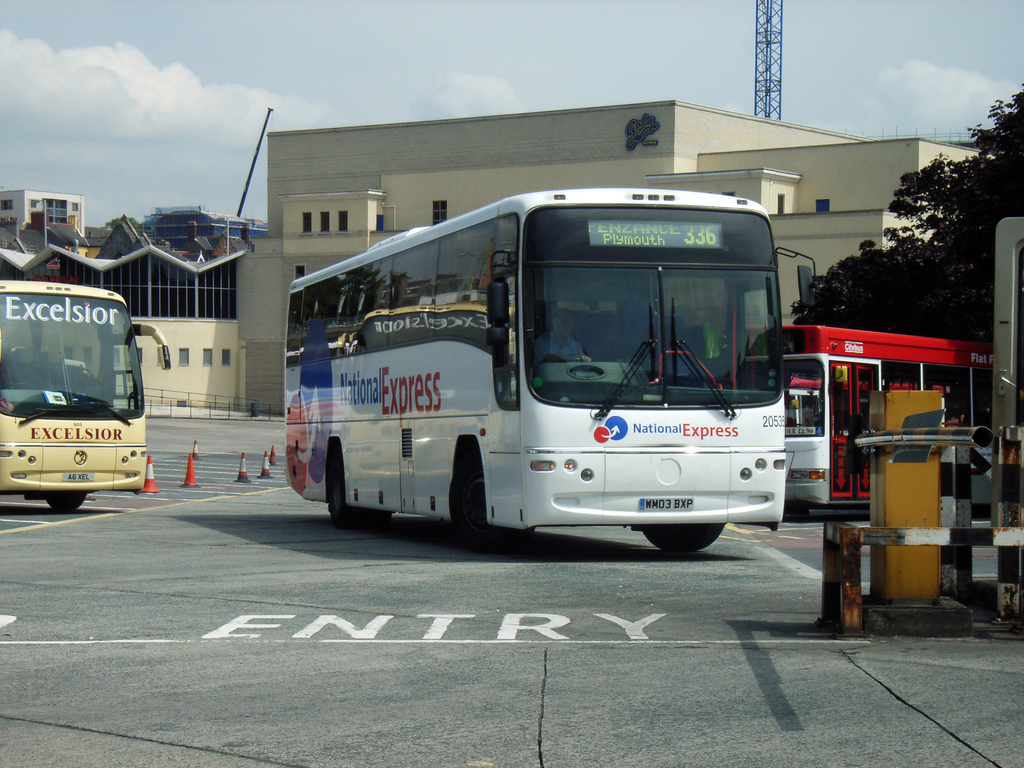Bus: (281, 180, 823, 558), (739, 325, 999, 515), (0, 283, 174, 510)
